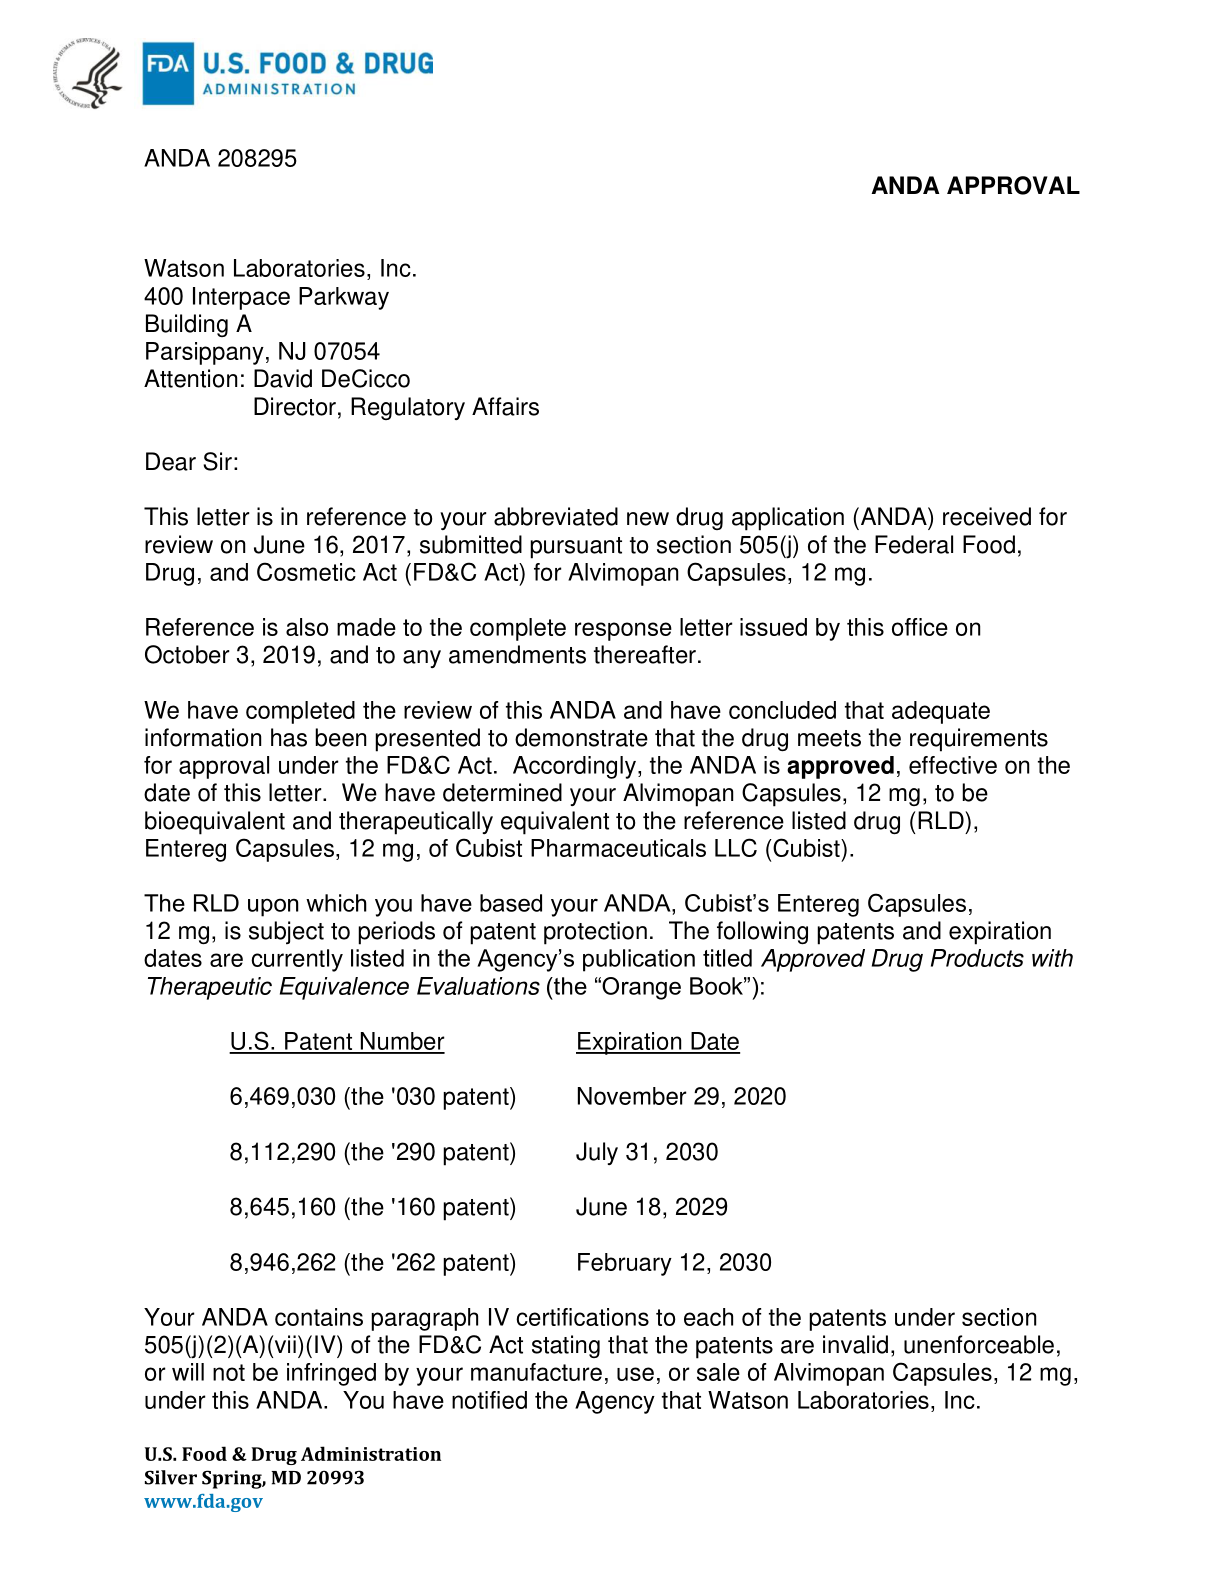nolines: (225, 1026, 791, 1281)
